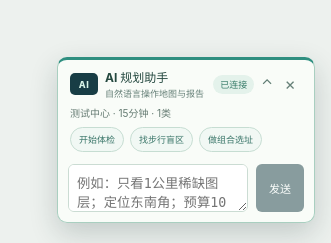
地图上的对话入口 › 快捷 AI 意图会复用对话发送链路并展开会话记录
The image size is (331, 243).
Click the button "找步行盲区". click: (162, 140)
box: [130,127,193,152]
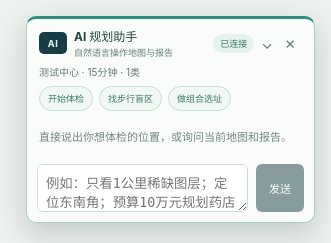
Now the button "AI AI 规划助手 自然语言操作地图与报告 已连接 ⌄" is expanded, box [39,27,273,59]
